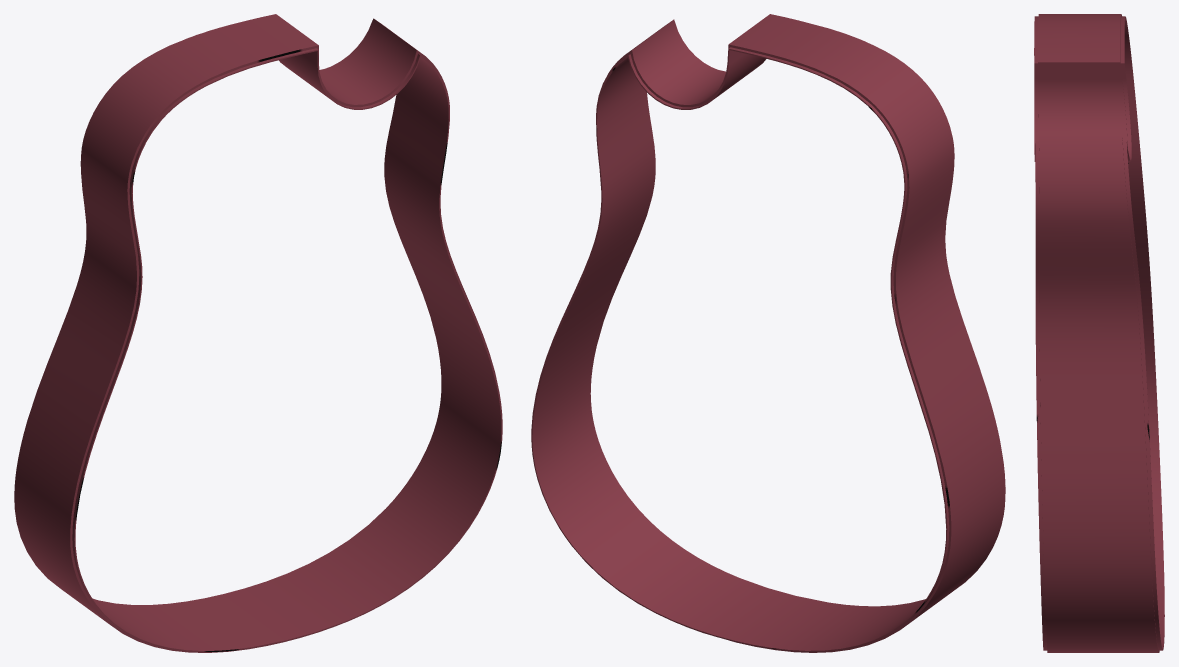
The model's file is Body_Sides_Arm_Bevel_Florentine_Cutaway.glb.
3 renders of one model, left to right at view 1: azimuth 30°, elevation 25°; view 2: azimuth 150°, elevation 25°; view 3: azimuth 270°, elevation 25°, orthographic. The views are drawn at different scales.
Parts seen in each view (by area): view 1: Body_Sides_Arm_Bevel_Florentine_Cutaway.001_Baked; view 2: Body_Sides_Arm_Bevel_Florentine_Cutaway.001_Baked; view 3: Body_Sides_Arm_Bevel_Florentine_Cutaway.001_Baked.
Boxes of the visible parts, box(x1,y1,x2,y2) form: Body_Sides_Arm_Bevel_Florentine_Cutaway.001_Baked: box(14, 14, 502, 652); Body_Sides_Arm_Bevel_Florentine_Cutaway.001_Baked: box(531, 14, 1005, 652); Body_Sides_Arm_Bevel_Florentine_Cutaway.001_Baked: box(1034, 14, 1164, 652).
Size of the model in its own units: 0.000392 by 0.000514 by 0.000107.
1 material, 1 textured.
